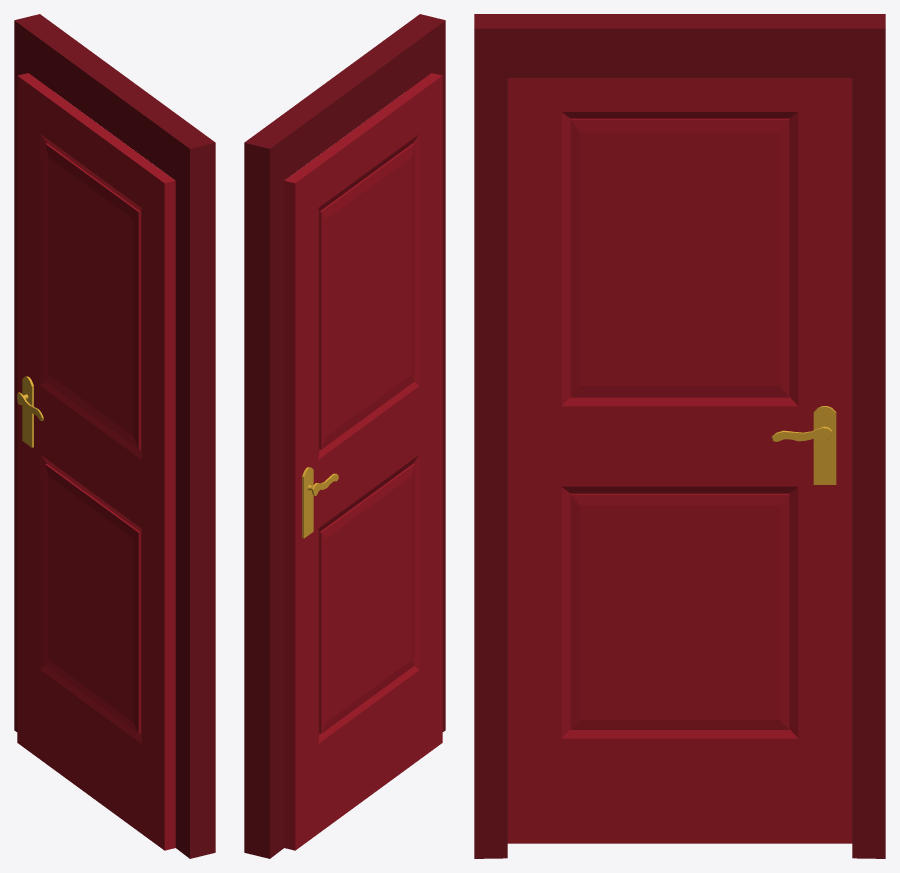
Rendered from vrata1.fbx.
3 views of the same model, side by side, from view 1: azimuth 30°, elevation 25°; view 2: azimuth 150°, elevation 25°; view 3: azimuth 270°, elevation 25° (orthographic). The views are drawn at different scales.
Visible parts, largest first — view 1: GLAVNA, ŠTOk, KVAKA; view 2: GLAVNA, ŠTOk, KVAKA; view 3: GLAVNA, ŠTOk, KVAKA.
Part boxes in pixels (bbox=[...]): GLAVNA: bbox=[17, 73, 175, 850]; ŠTOk: bbox=[14, 14, 215, 858]; KVAKA: bbox=[22, 376, 33, 447]; GLAVNA: bbox=[284, 73, 442, 850]; ŠTOk: bbox=[244, 14, 445, 858]; KVAKA: bbox=[302, 467, 313, 538]; GLAVNA: bbox=[507, 78, 852, 843]; ŠTOk: bbox=[474, 14, 885, 858]; KVAKA: bbox=[813, 406, 836, 484].
Bounding box in the file's own units: 97.05 × 14.75 × 216.
